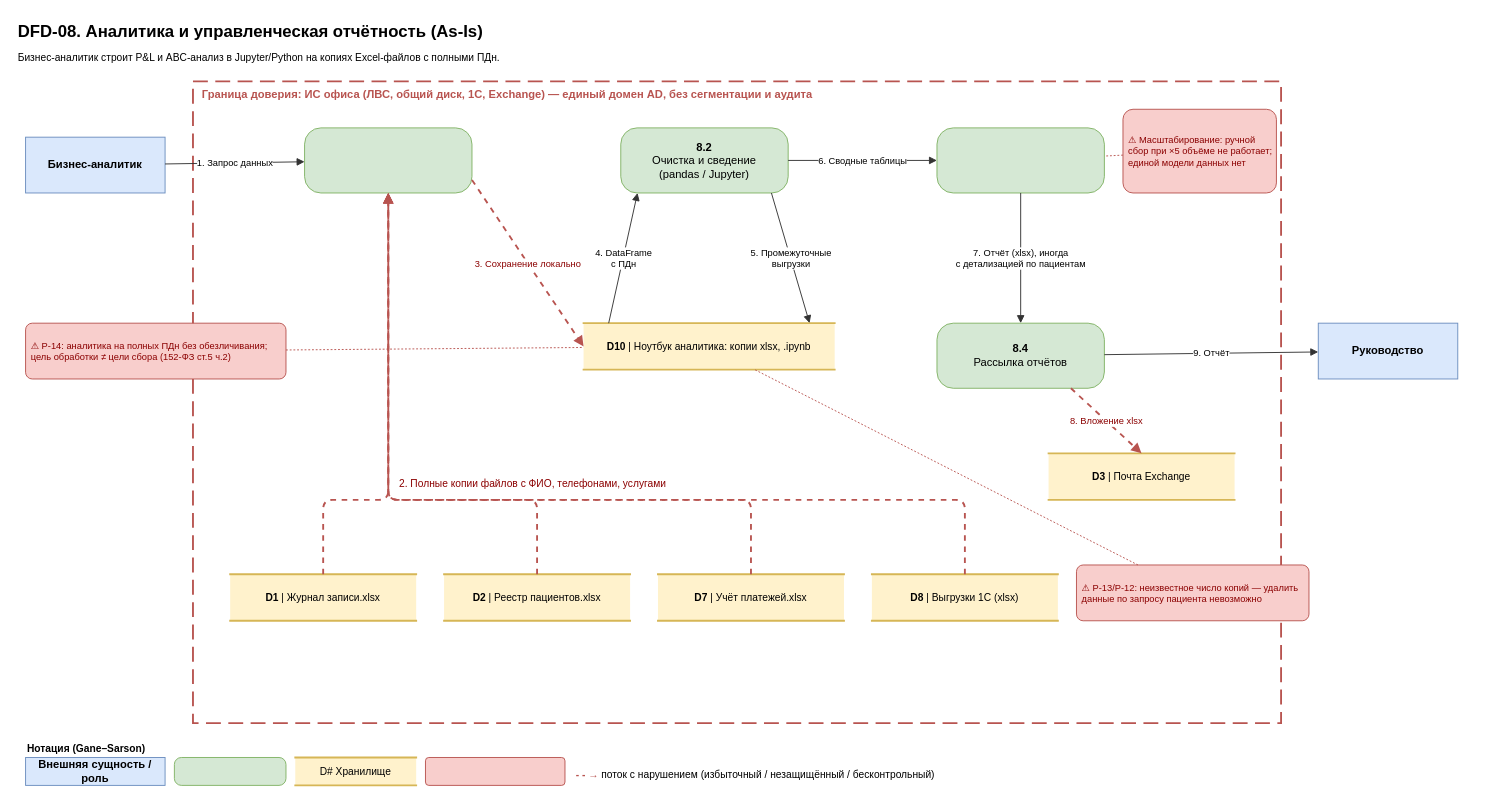
This 1501x802 diagram has some shape labels left out. Here are the shapes that lost their labels. From the top down, the centre of each, then its label:
At [388,160]: "8.1 Сбор и копирование файлов".
At [1020,160]: "8.3 Построение отчётов (P&L, ABC)".
At [229,771]: "Процесс".
At [495,771]: "⚠ P-xx — проблема (см. problems.md)".
